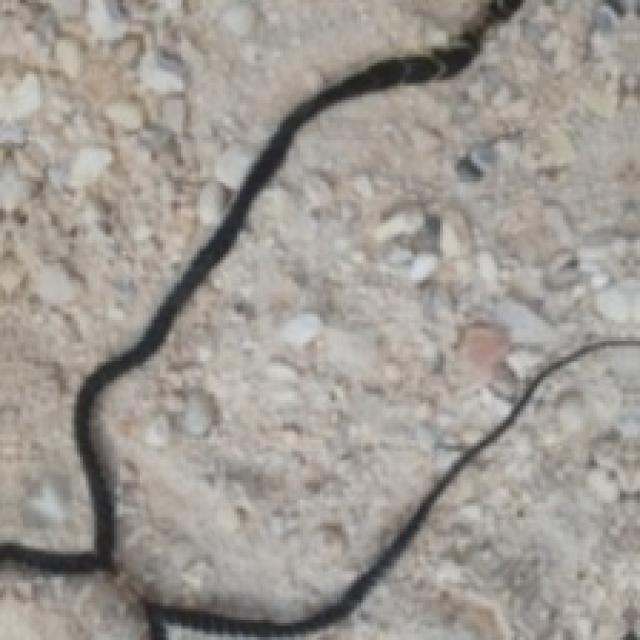king cobra: (97, 0, 637, 614), (0, 0, 477, 546), (309, 349, 637, 637), (0, 566, 143, 637)
